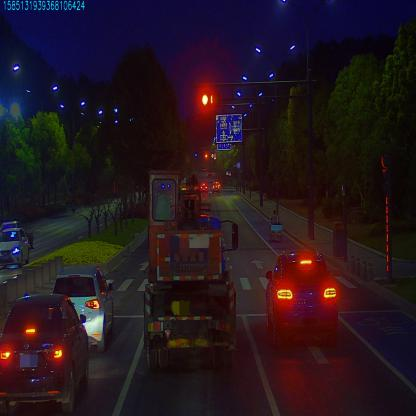traffic-light: (200, 91, 214, 109)
